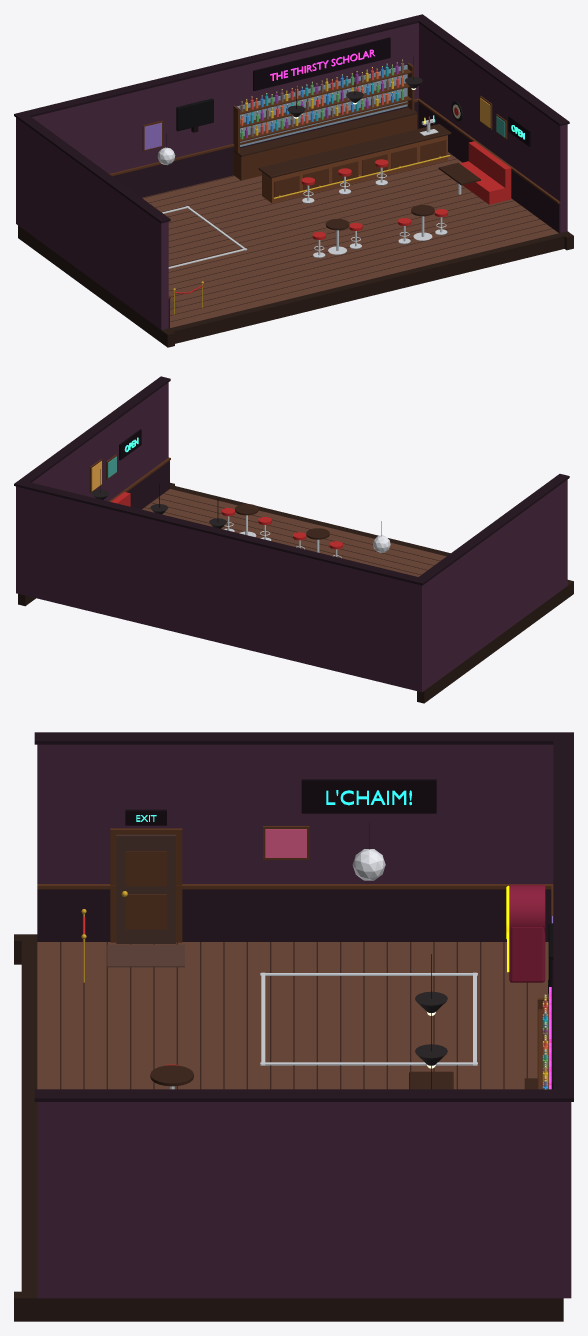
The model's file is interiors_bar.glb.
The picture shows the model from 3 angles, top to bottom: view 1: azimuth 30°, elevation 25°; view 2: azimuth 150°, elevation 25°; view 3: azimuth 270°, elevation 25°; orthographic projection. The views are drawn at different scales.
Parts seen in each view (by area): view 1: InteriorsBar_static; view 2: InteriorsBar_static; view 3: InteriorsBar_static, DiscoBall.
Part boxes in pixels (bbox=[...]): InteriorsBar_static: bbox=[14, 14, 573, 347]; InteriorsBar_static: bbox=[14, 376, 573, 703]; InteriorsBar_static: bbox=[14, 732, 573, 1321]; DiscoBall: bbox=[352, 849, 385, 880].
Size of the model in its own units: 16.7 by 4.78 by 10.8.
